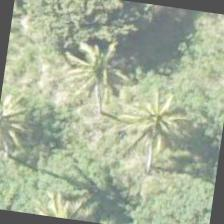Kelapa_Sawit: (50, 14, 152, 116), (105, 75, 206, 177), (0, 84, 49, 181)
